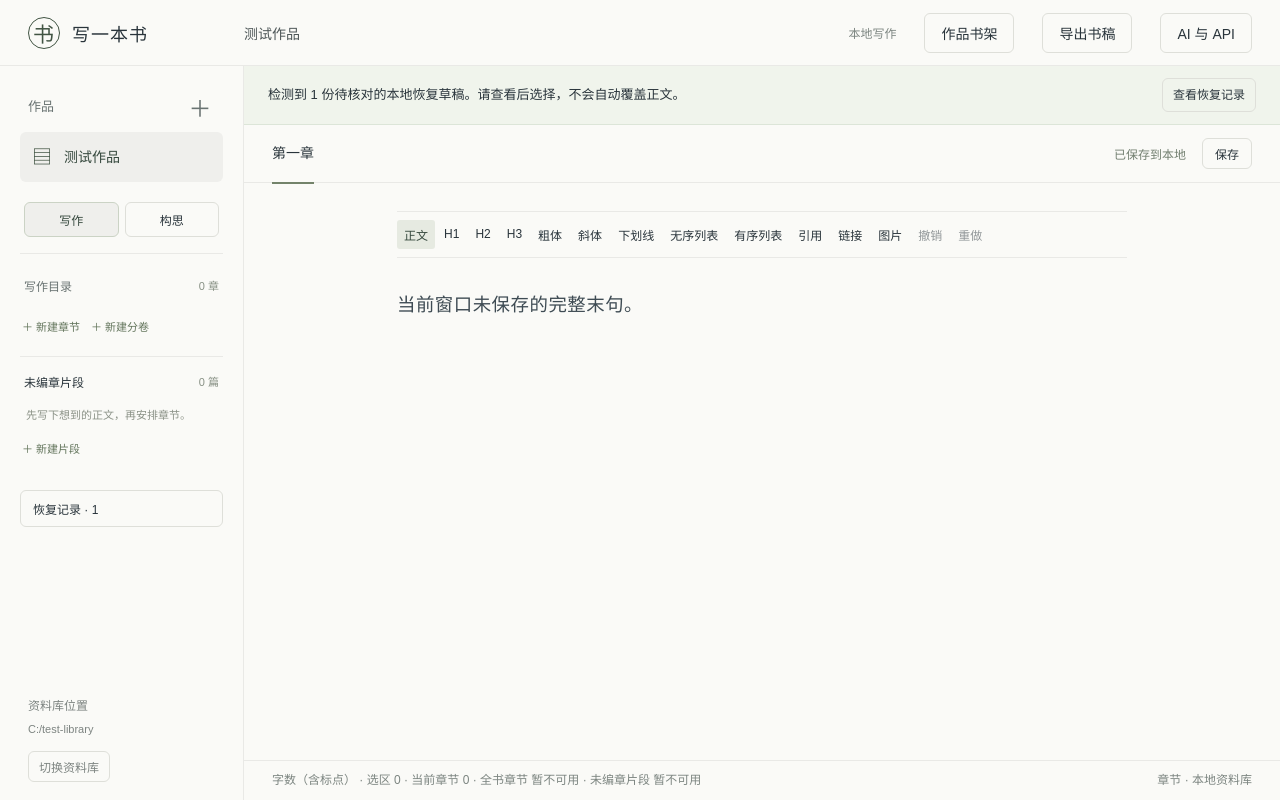
Test: branches out of a failed main save without flushing again, preserves both versions on failure, and loads a successful copy
This screenshot has width=1280, height=800.
(page scrolled)
Step 1. Clear the field with id "chapter-body" → coordinates (520, 305), box top-left (397, 295), bottom-right (643, 315)
Wait 20 ms
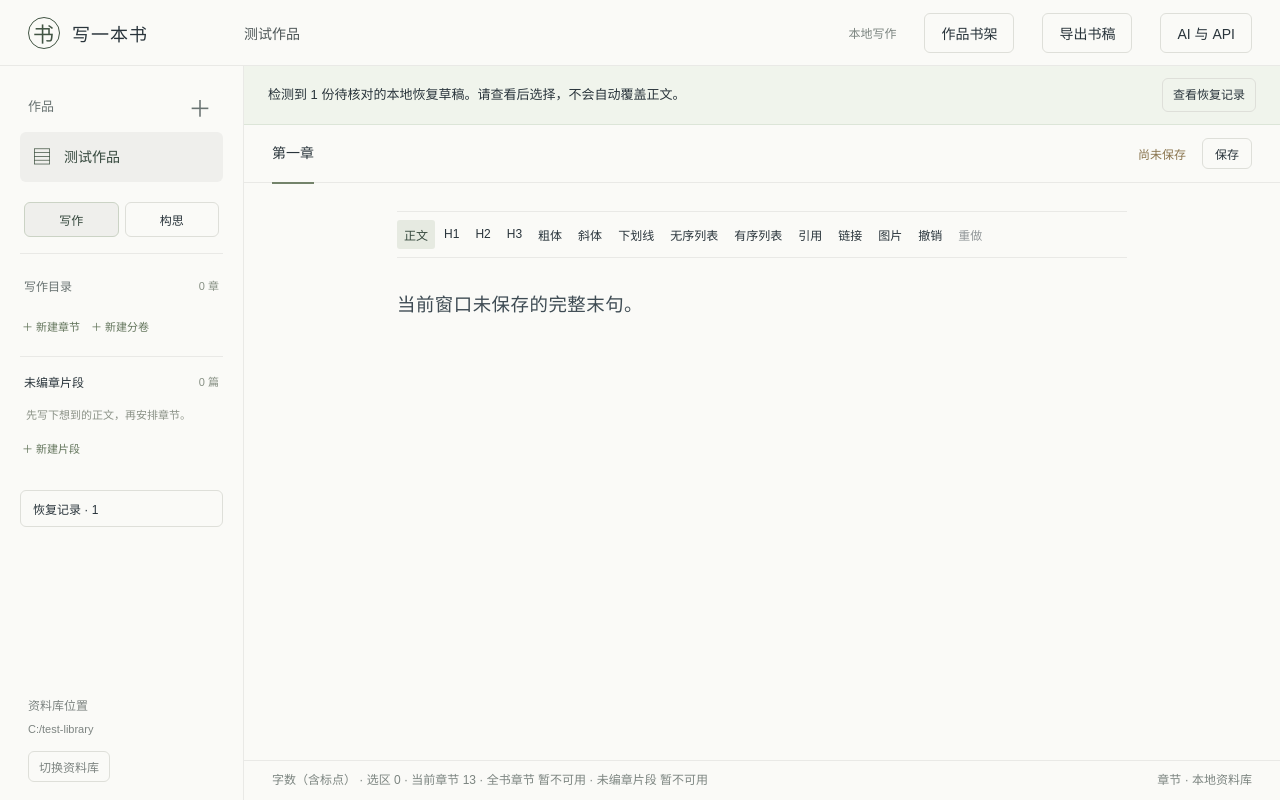
Step 2. Click the button "保存" → coordinates (1227, 154), box top-left (1202, 138), bottom-right (1252, 169)
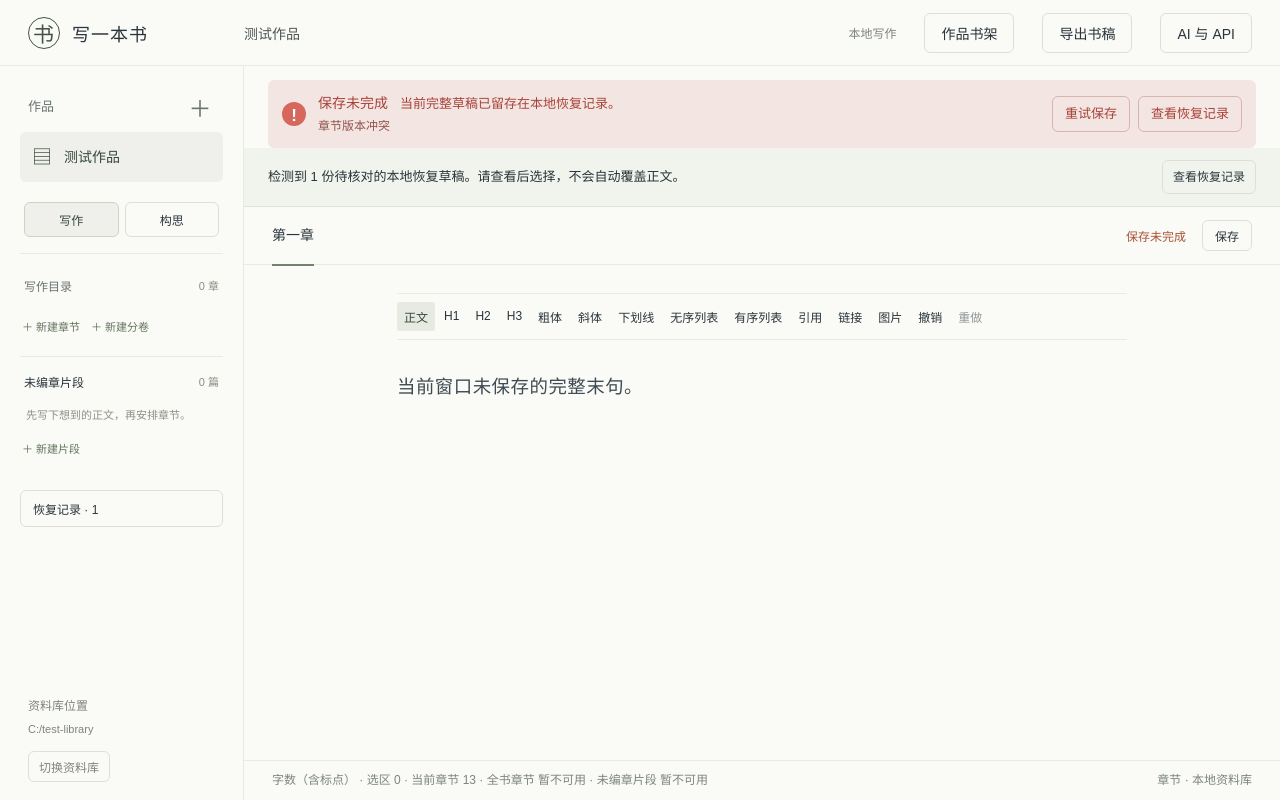
Check: the message with class "save-failure" shows "章节版本冲突", box top-left (318, 119), bottom-right (390, 133)
Step 3. Click the button "恢复记录 · 1" → coordinates (122, 508), box top-left (20, 490), bottom-right (223, 527)
(page scrolled)
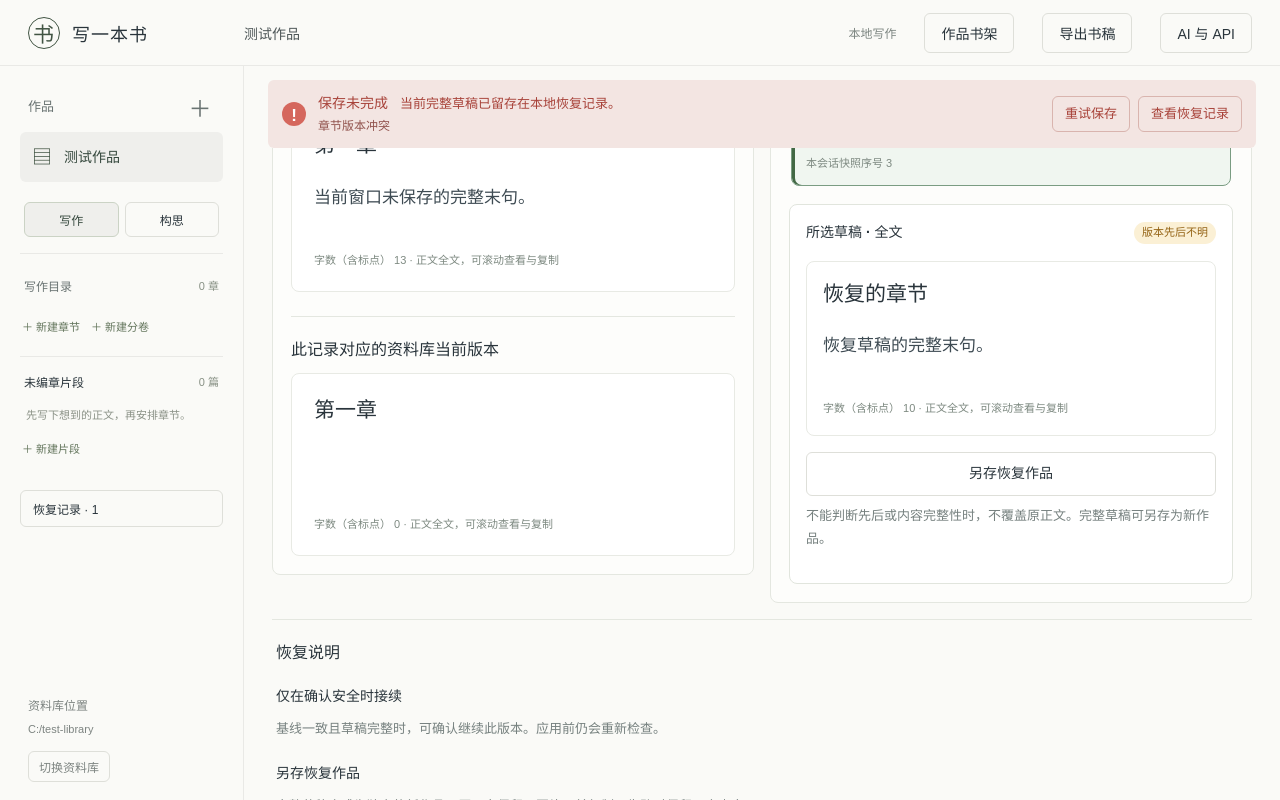
Check: the element named "当前窗口正文全文" shows "当前窗口未保存的完整末句。", box top-left (314, 188), bottom-right (535, 207)
Check: the element named "所选恢复草稿全文" shows "恢复草稿的完整末句。", box top-left (823, 336), bottom-right (993, 355)
Step 4. Click the button "另存恢复作品" → coordinates (1011, 474), box top-left (806, 452), bottom-right (1216, 496)
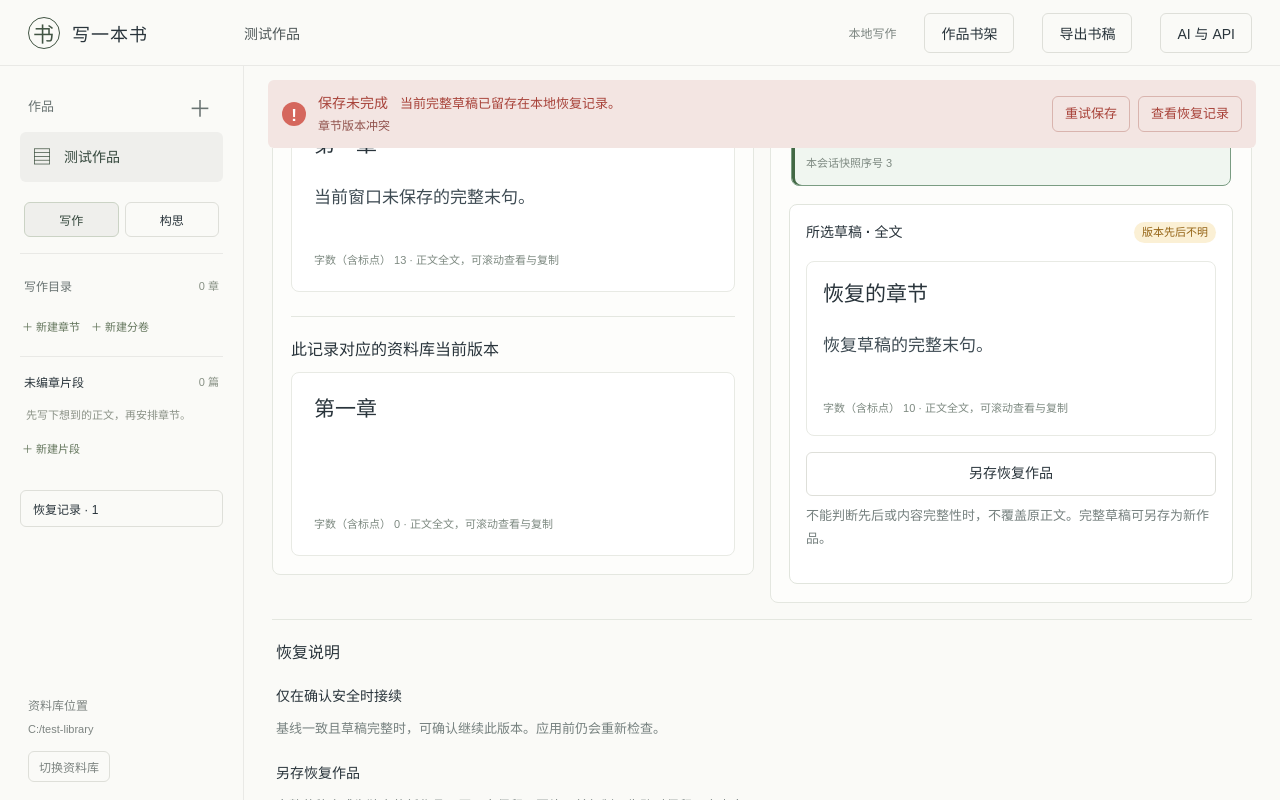
Check: the text "当前窗口未保存的完整末句。" is shown, box top-left (314, 188), bottom-right (535, 207)
Check: the element with class "recovery-panel" is shown
Check: the text "恢复草稿的完整末句。" is shown, box top-left (823, 336), bottom-right (993, 355)
Step 5. Click the button "另存恢复作品" → coordinates (1011, 474), box top-left (806, 452), bottom-right (1216, 496)
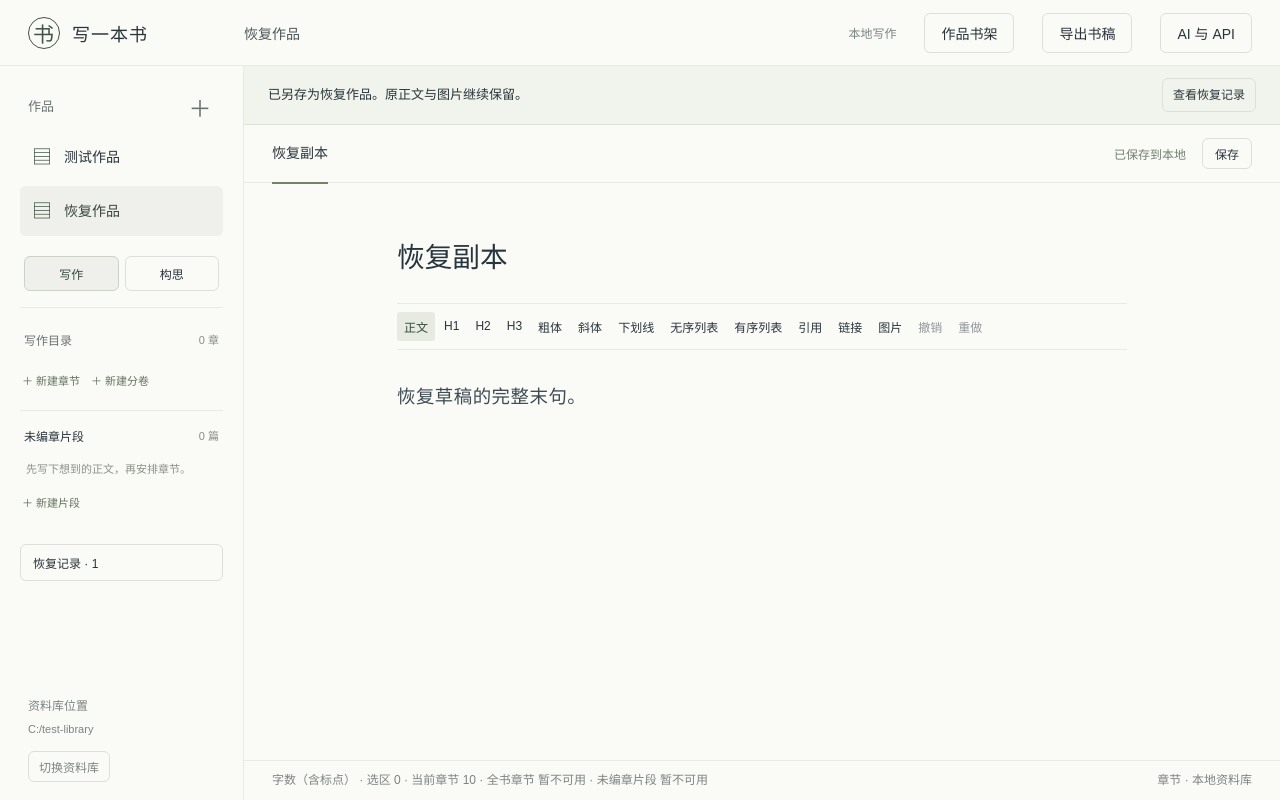
Check: the field with id "chapter-body" reads "恢复草稿的完整末句。", box top-left (397, 387), bottom-right (586, 407)
Check: the element with class "recovery-panel" is gone
Check: the field with id "chapter-title" holds "恢复副本", box top-left (397, 237), bottom-right (1127, 279)
